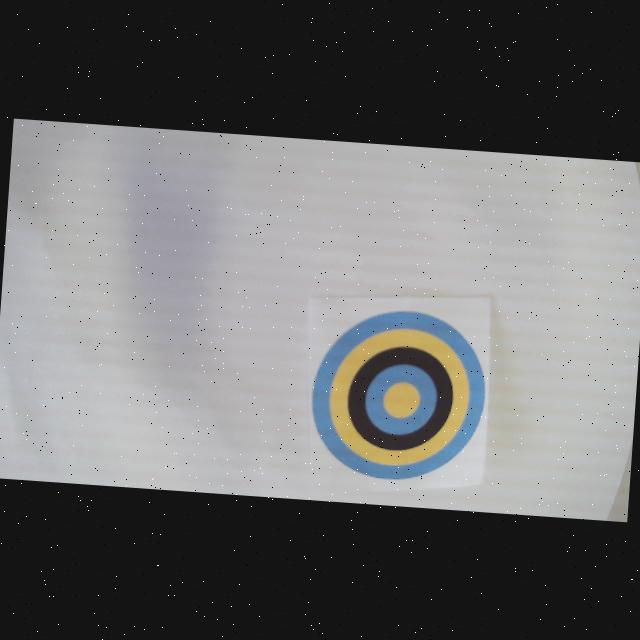COGNITIVE: (307, 304, 489, 486)
